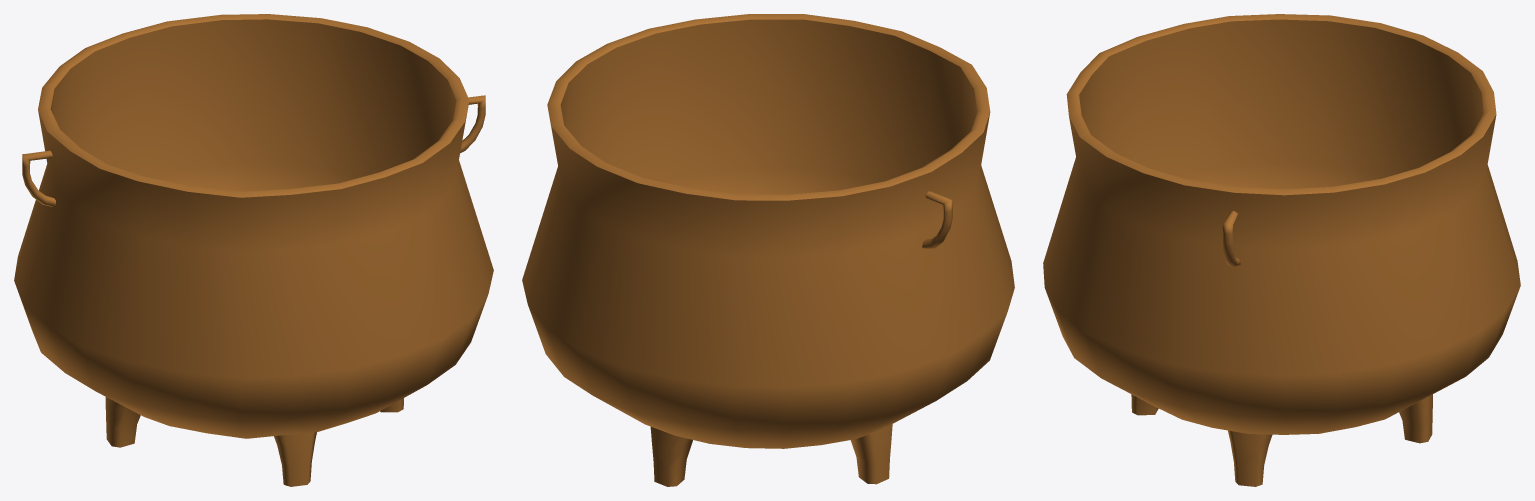
The model's file is pot.fbx.
3 renders of one model, left to right at view 1: azimuth 30°, elevation 25°; view 2: azimuth 150°, elevation 25°; view 3: azimuth 270°, elevation 25°, orthographic. The views are drawn at different scales.
Visible parts, largest first — view 1: Pot, Pot_Legs, Pot_handles; view 2: Pot, Pot_Legs, Pot_handles; view 3: Pot, Pot_Legs, Pot_handles.
Part boxes in pixels (x1=…): Pot: x1=14, y1=14, x2=493, y2=438; Pot_Legs: x1=105, y1=397, x2=403, y2=486; Pot_handles: x1=22, y1=95, x2=485, y2=206; Pot: x1=522, y1=14, x2=1014, y2=448; Pot_Legs: x1=650, y1=424, x2=892, y2=486; Pot_handles: x1=922, y1=191, x2=952, y2=248; Pot: x1=1043, y1=14, x2=1520, y2=434; Pot_Legs: x1=1131, y1=394, x2=1432, y2=486; Pot_handles: x1=1222, y1=211, x2=1240, y2=267.
Size of the model in its own units: 3.48 by 2.59 by 3.48.
